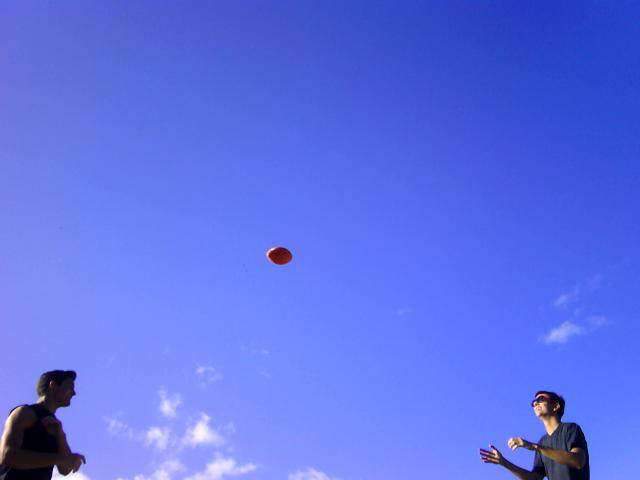football: (264, 244, 297, 266)
